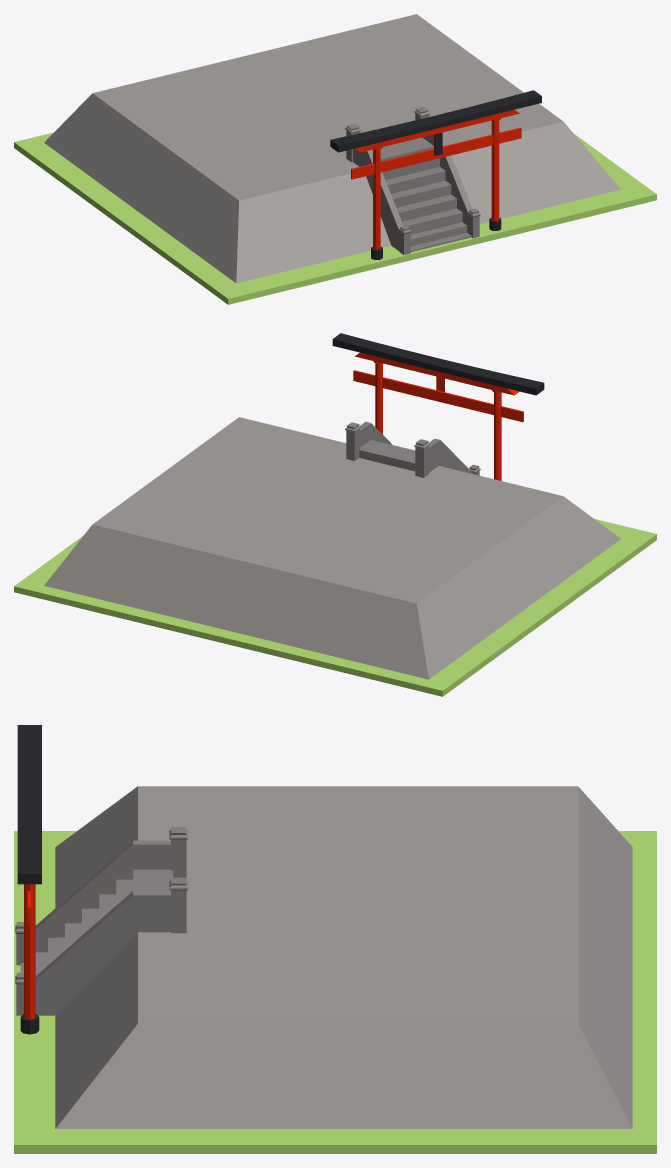
Rendered from Statue_4.fbx.
The picture shows the model from 3 angles, top to bottom: view 1: azimuth 30°, elevation 25°; view 2: azimuth 150°, elevation 25°; view 3: azimuth 270°, elevation 25°; orthographic projection. The views are drawn at different scales.
Visible parts, largest first — view 1: Statue_4; view 2: Statue_4; view 3: Statue_4.
Boxes of the visible parts, bbox=[...] form: Statue_4: bbox=[14, 14, 656, 304]; Statue_4: bbox=[14, 333, 656, 696]; Statue_4: bbox=[14, 725, 656, 1153].
Bounding box in the file's own units: 1370 × 401 × 1186.
